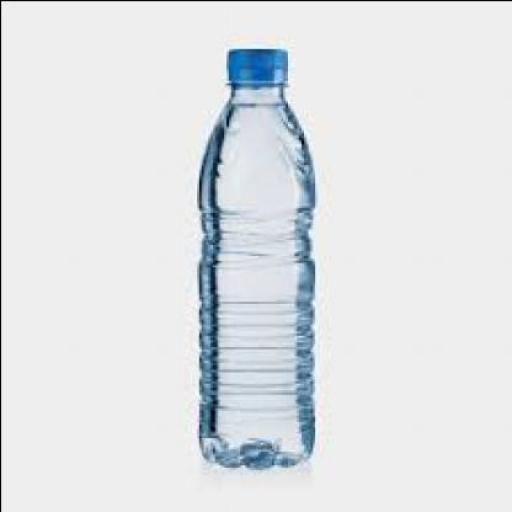plastic: (198, 43, 319, 467), (228, 43, 292, 86)
